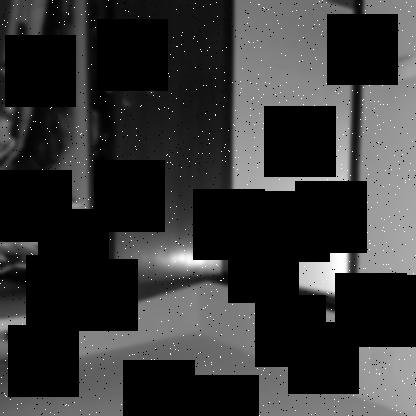Porte: (105, 1, 366, 318)
